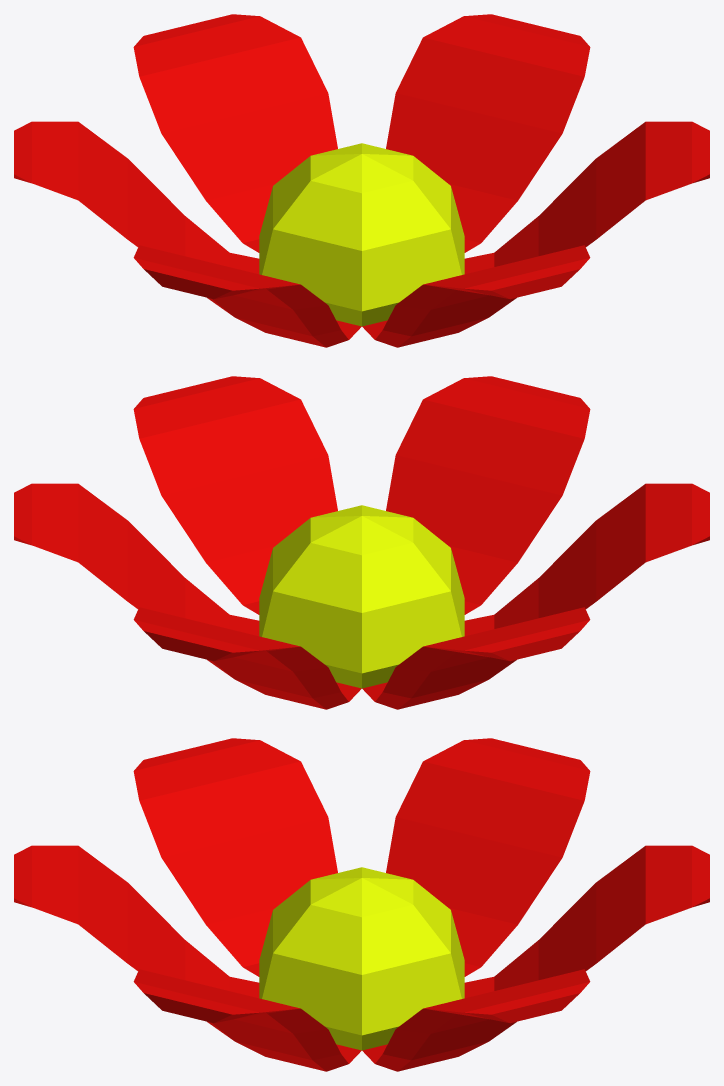
File: Flower_DaisyUV.fbx
3 views of the same model, one above another, from view 1: azimuth 30°, elevation 25°; view 2: azimuth 150°, elevation 25°; view 3: azimuth 270°, elevation 25° (orthographic).
Visible parts, largest first — view 1: Sphere; view 2: Sphere; view 3: Sphere.
Boxes of the visible parts, x1,y1,x2,y2 form: Sphere: (14, 14, 709, 347); Sphere: (14, 376, 709, 709); Sphere: (14, 738, 709, 1071).
Bounding box in the file's own units: 27.05 × 6.82 × 28.78.
